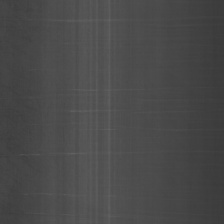waist_folding: (55, 7, 123, 224)
